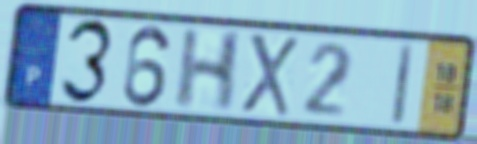2: (300, 40, 356, 120)
3: (54, 16, 118, 107)
6: (121, 22, 173, 110)
H: (171, 27, 247, 114)
I: (388, 41, 417, 129)
X: (238, 30, 300, 120)
